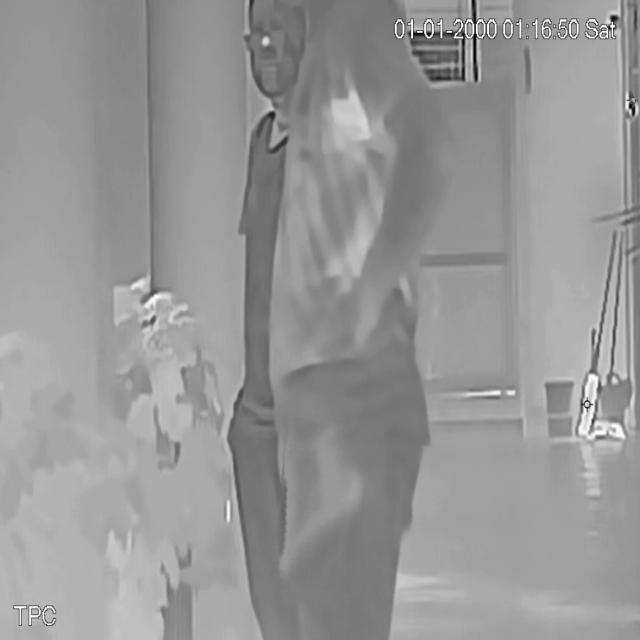Weapon: (274, 420, 379, 592)
